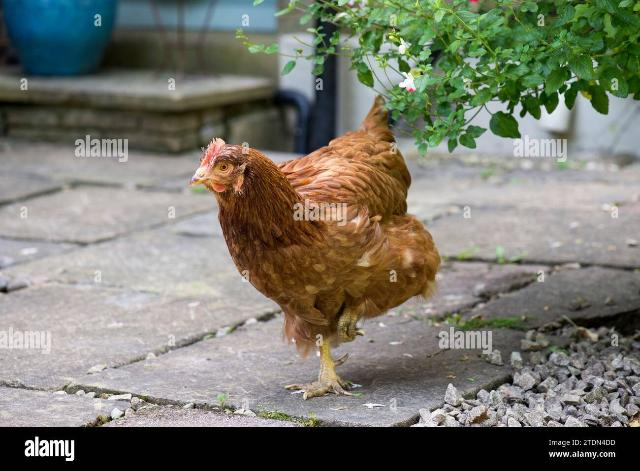Chicken: (188, 95, 440, 399)
